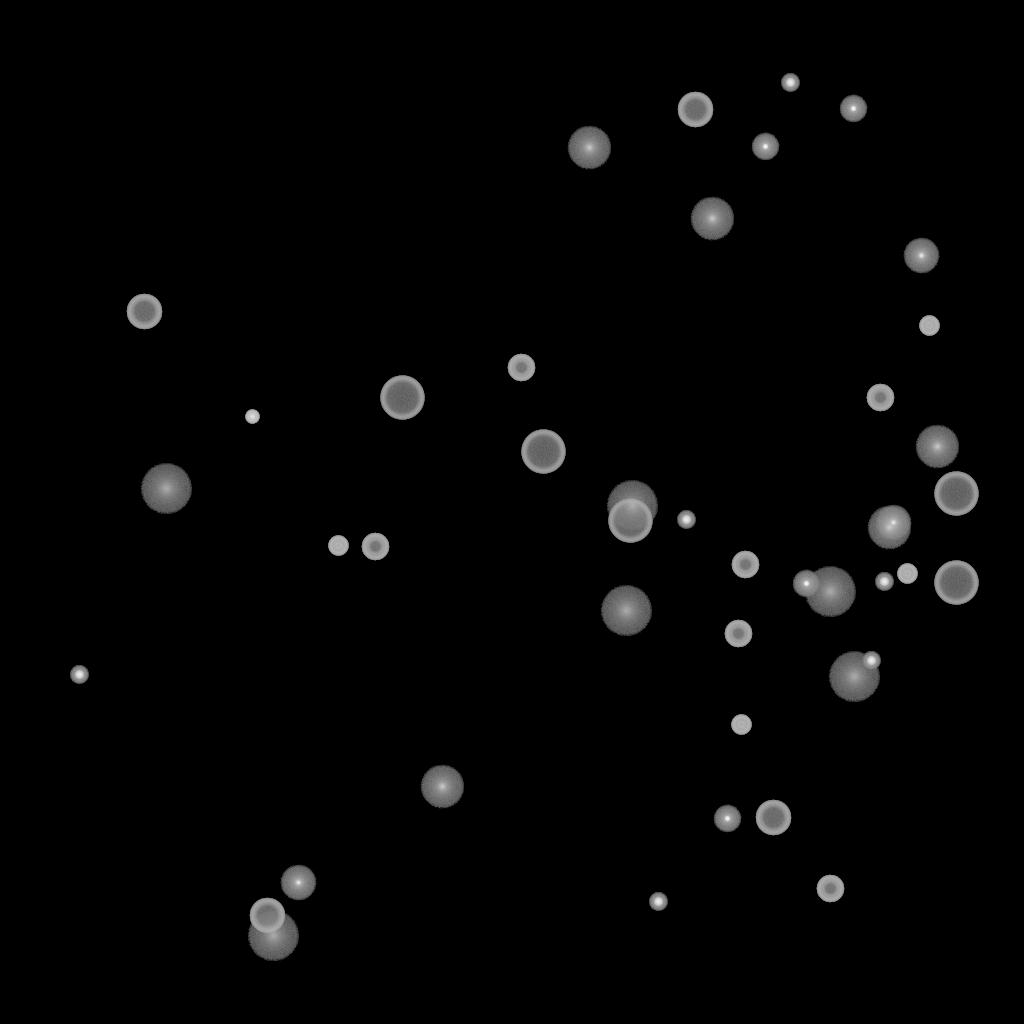depth:-10: (713, 805, 741, 833), (792, 570, 820, 598), (839, 95, 867, 123), (751, 133, 779, 161)
depth:-20: (649, 893, 667, 911), (862, 652, 880, 670), (781, 74, 799, 92), (875, 573, 893, 591), (677, 511, 695, 529), (70, 666, 88, 684)
depth:-30: (245, 410, 259, 424)
depth:-40: (328, 536, 348, 556), (897, 564, 917, 584), (919, 316, 939, 336), (731, 715, 751, 735)
depth:-50: (866, 384, 894, 412), (507, 354, 535, 382), (731, 551, 759, 579), (816, 875, 844, 903), (361, 533, 389, 561), (724, 620, 752, 648)
depth:-60: (677, 92, 713, 128), (755, 800, 791, 836), (249, 898, 285, 934), (126, 294, 162, 330)
depth:-70: (521, 430, 565, 474), (380, 376, 424, 420), (608, 499, 652, 543), (934, 561, 978, 605), (934, 472, 978, 516)
depth:0: (903, 238, 939, 274), (280, 865, 316, 901), (875, 505, 911, 541)
depth:10: (420, 765, 464, 809), (690, 197, 734, 241), (567, 126, 611, 170), (915, 425, 959, 469), (867, 506, 911, 550)
depth:20: (247, 911, 299, 961), (804, 567, 856, 617), (828, 652, 880, 702), (140, 464, 192, 514), (600, 586, 652, 636), (606, 481, 658, 531)
